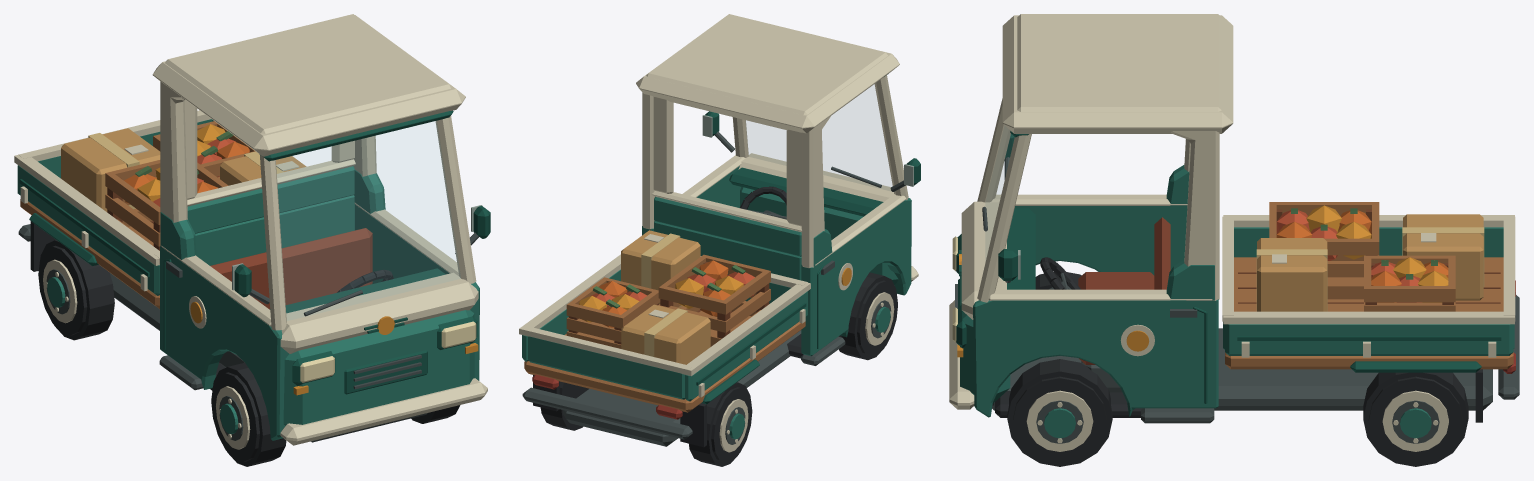
3 views of the same model, side by side, from view 1: azimuth 30°, elevation 25°; view 2: azimuth 150°, elevation 25°; view 3: azimuth 270°, elevation 25° (orthographic). The views are drawn at different scales.
Visible parts, largest first — view 1: truck_mesh, windscreen, cargo_load_mesh, wheel_rear_R_mesh, wheel_front_R_mesh; view 2: truck_mesh, cargo_load_mesh, windscreen, wheel_front_R_mesh, wheel_rear_R_mesh, wheel_rear_L_mesh, steering_wheel_mesh; view 3: truck_mesh, cargo_load_mesh, wheel_front_L_mesh, wheel_rear_L_mesh, windscreen, steering_wheel_mesh.
Part boxes in pixels (bbox=[...]): truck_mesh: bbox=[14, 14, 490, 445]; windscreen: bbox=[276, 121, 460, 320]; cargo_load_mesh: bbox=[61, 121, 306, 250]; wheel_rear_R_mesh: bbox=[38, 240, 114, 340]; wheel_front_R_mesh: bbox=[211, 362, 286, 466]; truck_mesh: bbox=[519, 14, 920, 447]; cargo_load_mesh: bbox=[566, 230, 770, 364]; windscreen: bbox=[746, 85, 891, 190]; wheel_front_R_mesh: bbox=[839, 272, 897, 360]; wheel_rear_R_mesh: bbox=[689, 382, 752, 466]; wheel_rear_L_mesh: bbox=[540, 381, 588, 430]; steering_wheel_mesh: bbox=[740, 186, 786, 219]; truck_mesh: bbox=[949, 14, 1519, 423]; cargo_load_mesh: bbox=[1256, 202, 1484, 311]; wheel_front_L_mesh: bbox=[1007, 359, 1112, 466]; wheel_rear_L_mesh: bbox=[1363, 372, 1468, 466]; windscreen: bbox=[986, 127, 1013, 256]; steering_wheel_mesh: bbox=[1040, 257, 1080, 289].
Bounding box in the file's own units: 1.96 × 2.57 × 3.74.
